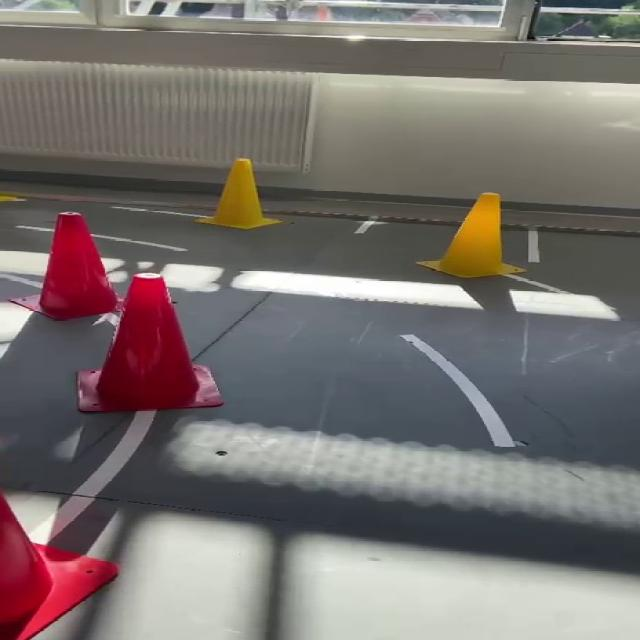Cone-red: (79, 274, 221, 411), (0, 489, 116, 639), (8, 212, 119, 319)
Cones-yellow: (418, 193, 526, 278), (194, 158, 283, 228), (48, 213, 99, 273), (0, 193, 21, 202)
